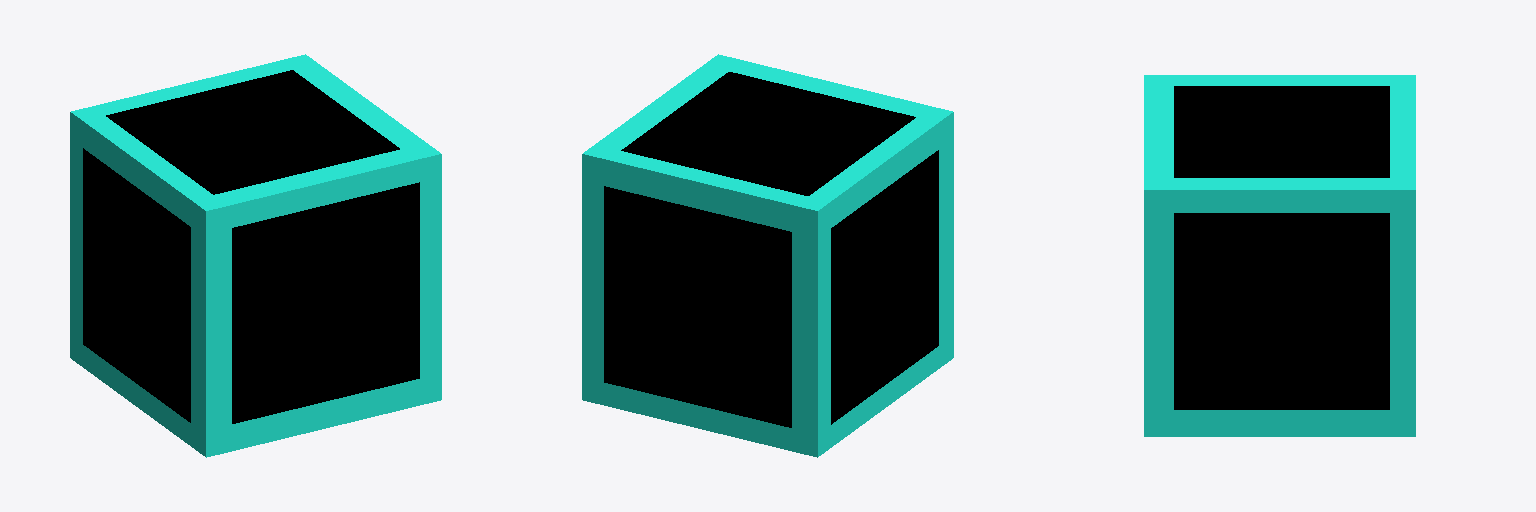
The picture shows the model from 3 angles: view 1: azimuth 30°, elevation 25°; view 2: azimuth 150°, elevation 25°; view 3: azimuth 270°, elevation 25°; orthographic projection.
Parts seen in each view (by area): view 1: Cube; view 2: Cube; view 3: Cube.
Boxes of the visible parts, x1=… form: Cube: x1=70, y1=54, x2=441, y2=457; Cube: x1=582, y1=54, x2=953, y2=457; Cube: x1=1144, y1=75, x2=1415, y2=436.
Bounding box in the file's own units: 2 × 2 × 2.
1 materials, 1 textured.